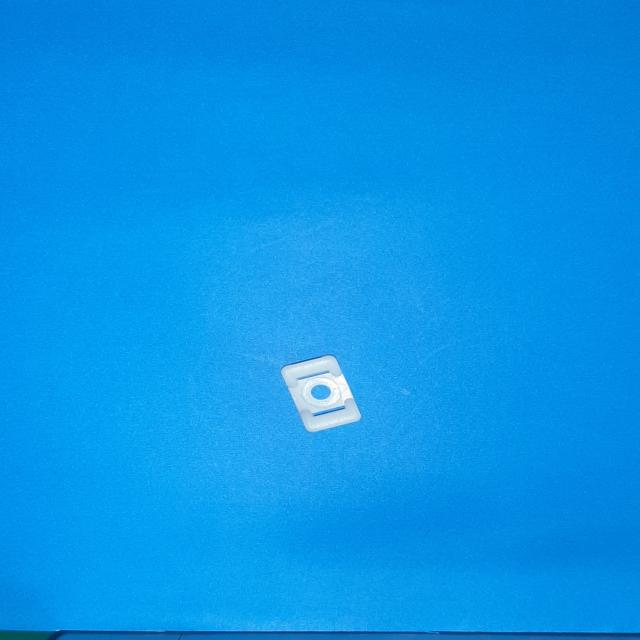true: (282, 355, 360, 432)
true_center: (311, 385, 331, 400)
